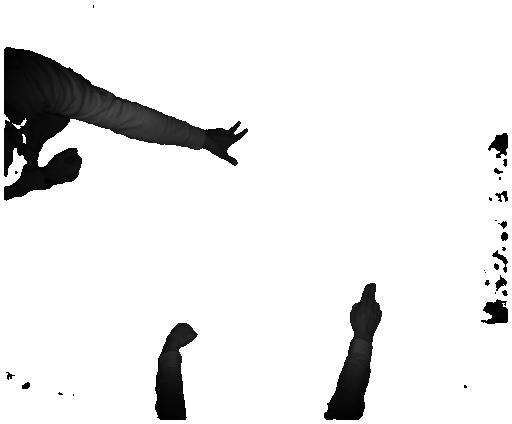fist: (50, 146, 87, 188), (167, 320, 199, 351)
hand: (344, 280, 383, 337), (206, 120, 247, 167)
